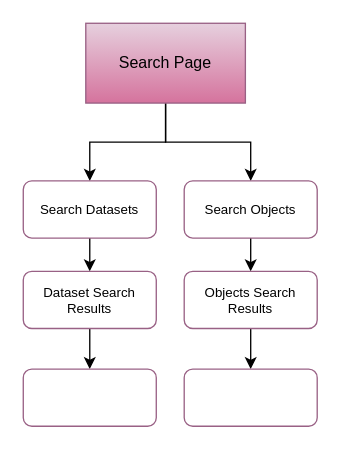
Image size: 340x450. Some labels were removed from this diagram. The centre of each missing label's shape, as x and y in pixels:
Link to View Dataset: the point at 89,397
Link to View Object: the point at 250,397
